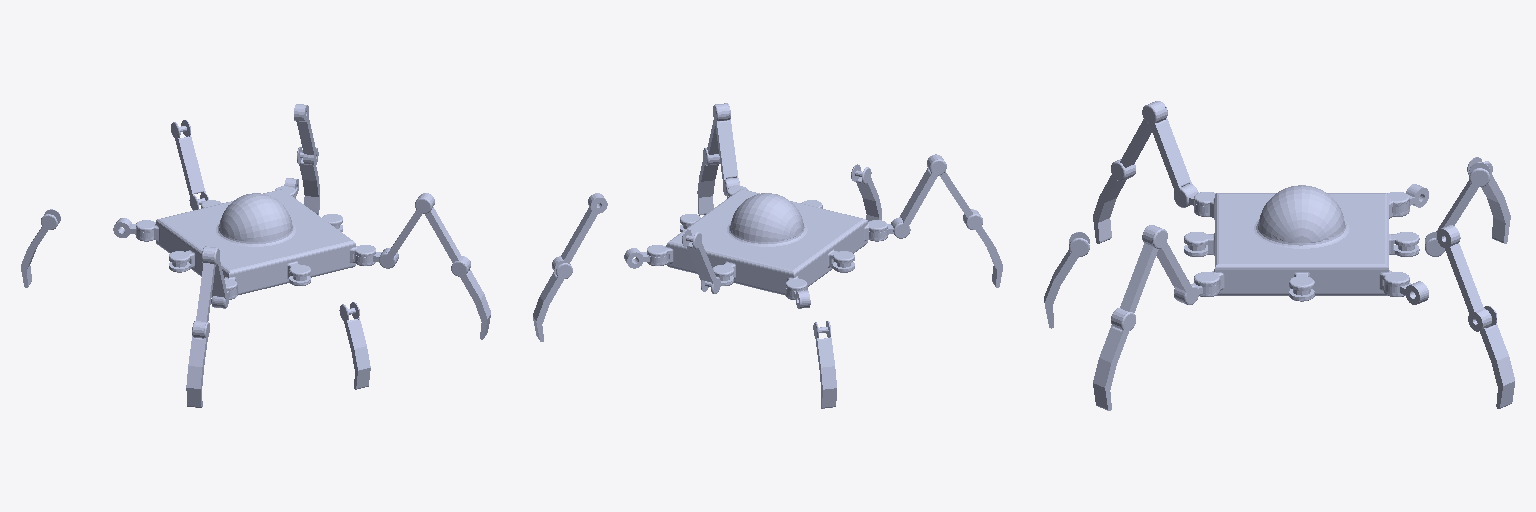
--- Facts derived from the render (not from the file) ---
The picture shows the robot from 3 angles, left to right: view 1: azimuth 30°, elevation 25°; view 2: azimuth 150°, elevation 25°; view 3: azimuth 270°, elevation 25°; orthographic projection.
Model SpiderBot_6Legs with 25 links and 24 joints (24 revolute), rooted at body, posed every joint at zero.
Links seen in each view (by area): view 1: body, link_L5_J2, link_L2_J4, link_L3_J4, link_L3_J3, link_L1_J4, link_L6_J3, link_L6_J4, link_L4_J4, link_L1_J2, link_L1_J3, link_L3_J2; view 2: body, link_L4_J4, link_L3_J2, link_L1_J2, link_L5_J2, link_L6_J3, link_L6_J4, link_L2_J4, link_L1_J4, link_L3_J4, link_L1_J3; view 3: body, link_L6_J3, link_L3_J2, link_L1_J4, link_L6_J4, link_L1_J3, link_L5_J2, link_L3_J4, link_L2_J4, link_L1_J2, link_L4_J4, link_L3_J3 (+1 smaller).
Link boxes in pixels (x1,y1,x2,y2): body: [136, 186, 375, 299]; link_L5_J2: [171, 120, 208, 210]; link_L2_J4: [339, 302, 370, 389]; link_L3_J4: [186, 321, 209, 407]; link_L3_J3: [193, 246, 215, 338]; link_L1_J4: [451, 256, 490, 339]; link_L6_J3: [294, 104, 318, 165]; link_L6_J4: [297, 147, 319, 214]; link_L4_J4: [21, 209, 60, 287]; link_L1_J2: [379, 193, 434, 268]; link_L1_J3: [416, 193, 470, 270]; link_L3_J2: [202, 246, 228, 308]; body: [647, 186, 887, 299]; link_L4_J4: [813, 321, 836, 408]; link_L3_J2: [891, 154, 946, 238]; link_L1_J2: [713, 103, 739, 195]; link_L5_J2: [682, 229, 720, 293]; link_L6_J3: [552, 193, 607, 273]; link_L6_J4: [533, 258, 572, 341]; link_L2_J4: [851, 164, 881, 221]; link_L1_J4: [697, 148, 719, 215]; link_L3_J4: [963, 209, 1002, 287]; link_L1_J3: [707, 103, 728, 164]; body: [1184, 185, 1419, 301]; link_L6_J3: [1437, 225, 1491, 331]; link_L3_J2: [1142, 101, 1198, 207]; link_L1_J4: [1093, 308, 1135, 410]; link_L6_J4: [1476, 306, 1514, 408]; link_L1_J3: [1112, 225, 1161, 329]; link_L5_J2: [1425, 162, 1489, 256]; link_L3_J4: [1093, 161, 1135, 243]; link_L2_J4: [1044, 232, 1089, 328]; link_L1_J2: [1142, 225, 1198, 304]; link_L4_J4: [1467, 157, 1510, 243]; link_L3_J3: [1117, 101, 1166, 179].
Size in the robot's own frame: 0.4791 by 0.5397 by 0.2019 metres.
16 mesh visuals loaded from 25 distinct referenced files (16 binary STL); not drawn: 9 (reference not matched to a file when rendering).

robot.urdf — SpiderBot_6Legs:
<?xml version="1.0" encoding="utf-8"?>

<robot
  name="SpiderBot_6Legs">
  <link
    name="body">
    <inertial>
      <origin
        xyz="-1.6455E-06 -2.7132E-06 0.13522"
        rpy="0 0 0" />
      <mass
        value="1.9509" />
      <inertia
        ixx="0.0068935"
        ixy="-1.5477E-07"
        ixz="-1.6748E-08"
        iyy="0.0068934"
        iyz="-2.768E-08"
        izz="0.012599" />
    </inertial>
    <visual>
      <origin
        xyz="0 0 0"
        rpy="0 0 0" />
      <geometry>
        <mesh
          filename="package://SpiderBot_6Legs/meshes/body.STL" />
      </geometry>
      <material
        name="">
        <color
          rgba="0.79216 0.81961 0.93333 1" />
      </material>
    </visual>
    <collision>
      <origin
        xyz="0 0 0"
        rpy="0 0 0" />
      <geometry>
        <mesh
          filename="package://SpiderBot_6Legs/meshes/body.STL" />
      </geometry>
    </collision>
  </link>
  <link
    name="link_L1_J1">
    <inertial>
      <origin
        xyz="0.0208533170560279 5.55111512312578E-17 -0.0120000000000001"
        rpy="0 0 0" />
      <mass
        value="0.00957341037321664" />
      <inertia
        ixx="6.35237498388445E-07"
        ixy="1.56171699650012E-21"
        ixz="1.62186169348837E-20"
        iyy="2.95388816018321E-06"
        iyz="-8.55851251114884E-22"
        izz="3.07273769122766E-06" />
    </inertial>
    <visual>
      <origin
        xyz="0 0 0"
        rpy="0 0 0" />
      <geometry>
        <mesh
          filename="package://SpiderBot_6Legs/meshes/link_L1_J1.STL" />
      </geometry>
      <material
        name="">
        <color
          rgba="0.792156862745098 0.819607843137255 0.933333333333333 1" />
      </material>
    </visual>
    <collision>
      <origin
        xyz="0 0 0"
        rpy="0 0 0" />
      <geometry>
        <mesh
          filename="package://SpiderBot_6Legs/meshes/link_L1_J1.STL" />
      </geometry>
    </collision>
  </link>
  <joint
    name="L1_J1"
    type="revolute">
    <origin
      xyz="0.108832033144844 -0.108832033144843 0.118000000000001"
      rpy="3.14159265358978 0 -0.785398163397437" />
    <parent
      link="body" />
    <child
      link="link_L1_J1" />
    <axis
      xyz="0 0 1" />
    <limit
      lower="0"
      upper="0"
      effort="0"
      velocity="0" />
  </joint>
  <link
    name="link_L1_J2">
    <inertial>
      <origin
        xyz="1.2490009027033E-16 -9.71445146547012E-17 0.0509087121146357"
        rpy="0 0 0" />
      <mass
        value="0.0214270498659543" />
      <inertia
        ixx="2.34021439622059E-05"
        ixy="1.6940658945086E-21"
        ixz="-6.52215369385811E-20"
        iyy="2.39989247736348E-05"
        iyz="5.44218668610888E-20"
        izz="1.16162974067387E-06" />
    </inertial>
    <visual>
      <origin
        xyz="0 0 0"
        rpy="0 0 0" />
      <geometry>
        <mesh
          filename="package://SpiderBot_6Legs/meshes/link_L1_J2.STL" />
      </geometry>
      <material
        name="">
        <color
          rgba="0.792156862745098 0.819607843137255 0.933333333333333 1" />
      </material>
    </visual>
    <collision>
      <origin
        xyz="0 0 0"
        rpy="0 0 0" />
      <geometry>
        <mesh
          filename="package://SpiderBot_6Legs/meshes/link_L1_J2.STL" />
      </geometry>
    </collision>
  </link>
  <joint
    name="L1_J2"
    type="revolute">
    <origin
      xyz="0.0329903810567685 0 -0.0119999999999972"
      rpy="-2.6179938779915 0 -1.5707963267949" />
    <parent
      link="link_L1_J1" />
    <child
      link="link_L1_J2" />
    <axis
      xyz="1 0 0" />
    <limit
      lower="0"
      upper="0"
      effort="0"
      velocity="0" />
  </joint>
  <link
    name="link_L1_J3">
    <inertial>
      <origin
        xyz="-0.0509087121146357 5.55111512312578E-17 -1.80411241501588E-16"
        rpy="0 0 0" />
      <mass
        value="0.0238433927437446" />
      <inertia
        ixx="1.0284985609508E-06"
        ixy="3.55224442254772E-20"
        ixz="-3.93076227085199E-20"
        iyy="3.82502554199004E-05"
        iyz="0"
        izz="3.83846267529608E-05" />
    </inertial>
    <visual>
      <origin
        xyz="0 0 0"
        rpy="0 0 0" />
      <geometry>
        <mesh
          filename="package://SpiderBot_6Legs/meshes/link_L1_J3.STL" />
      </geometry>
      <material
        name="">
        <color
          rgba="0.792156862745098 0.819607843137255 0.933333333333333 1" />
      </material>
    </visual>
    <collision>
      <origin
        xyz="0 0 0"
        rpy="0 0 0" />
      <geometry>
        <mesh
          filename="package://SpiderBot_6Legs/meshes/link_L1_J3.STL" />
      </geometry>
    </collision>
  </link>
  <joint
    name="L1_J3"
    type="revolute">
    <origin
      xyz="0 0 0.101817424229271"
      rpy="1.5707963267949 -0.523598775598305 1.57079632679489" />
    <parent
      link="link_L1_J2" />
    <child
      link="link_L1_J3" />
    <axis
      xyz="0 0 1" />
    <limit
      lower="0"
      upper="0"
      effort="0"
      velocity="0" />
  </joint>
  <link
    name="link_L1_J4">
    <inertial>
      <origin
        xyz="-2.43606079752823E-10 -0.00336940912784056 -0.0483315670397482"
        rpy="0 0 0" />
      <mass
        value="0.0205677845340441" />
      <inertia
        ixx="2.06704743841636E-05"
        ixy="2.0589781913943E-14"
        ixz="1.55720656723181E-13"
        iyy="2.05646985832854E-05"
        iyz="-2.80021798240062E-06"
        izz="1.64193171564564E-06" />
    </inertial>
    <visual>
      <origin
        xyz="0 0 0"
        rpy="0 0 0" />
      <geometry>
        <mesh
          filename="package://SpiderBot_6Legs/meshes/link_L1_J4.STL" />
      </geometry>
      <material
        name="">
        <color
          rgba="0.792156862745098 0.819607843137255 0.933333333333333 1" />
      </material>
    </visual>
    <collision>
      <origin
        xyz="0 0 0"
        rpy="0 0 0" />
      <geometry>
        <mesh
          filename="package://SpiderBot_6Legs/meshes/link_L1_J4.STL" />
      </geometry>
    </collision>
  </link>
  <joint
    name="L1_J4"
    type="revolute">
    <origin
      xyz="-0.101817424229271 0 0"
      rpy="0 1.57079630572147 0" />
    <parent
      link="link_L1_J3" />
    <child
      link="link_L1_J4" />
    <axis
      xyz="1 0 0" />
    <limit
      lower="0"
      upper="0"
      effort="0"
      velocity="0" />
  </joint>
  <link
    name="link_L2_J1">
    <inertial>
      <origin
        xyz="0.0208533170560278 1.39607056712601E-15 -0.0120000000000003"
        rpy="0 0 0" />
      <mass
        value="0.00957341037321663" />
      <inertia
        ixx="6.35237498388445E-07"
        ixy="8.77009254019188E-20"
        ixz="1.82209679161877E-20"
        iyy="2.95388816018321E-06"
        iyz="8.18836950869645E-22"
        izz="3.07273769122765E-06" />
    </inertial>
    <visual>
      <origin
        xyz="0 0 0"
        rpy="0 0 0" />
      <geometry>
        <mesh
          filename="package://SpiderBot_6Legs/meshes/link_L2_J1.STL" />
      </geometry>
      <material
        name="">
        <color
          rgba="0.792156862745098 0.819607843137255 0.933333333333333 1" />
      </material>
    </visual>
    <collision>
      <origin
        xyz="0 0 0"
        rpy="0 0 0" />
      <geometry>
        <mesh
          filename="package://SpiderBot_6Legs/meshes/link_L2_J1.STL" />
      </geometry>
    </collision>
  </link>
  <joint
    name="L2_J1"
    type="revolute">
    <origin
      xyz="0 -0.119999999999998 0.118000000000001"
      rpy="-3.14159265358979 0 -1.5707963267949" />
    <parent
      link="body" />
    <child
      link="link_L2_J1" />
    <axis
      xyz="0 0 1" />
    <limit
      lower="0"
      upper="0"
      effort="0"
      velocity="0" />
  </joint>
  <link
    name="link_L2_J2">
    <inertial>
      <origin
        xyz="1.85556077463149E-16 1.52655665885959E-16 0.0509087121146356"
        rpy="0 0 0" />
      <mass
        value="0.0214270498659543" />
      <inertia
        ixx="2.34021439622059E-05"
        ixy="-1.90620846702163E-20"
        ixz="-4.90560858710119E-19"
        iyy="2.39989247736348E-05"
        iyz="-3.01226091867311E-20"
        izz="1.16162974067388E-06" />
    </inertial>
    <visual>
      <origin
        xyz="0 0 0"
        rpy="0 0 0" />
      <geometry>
        <mesh
          filename="package://SpiderBot_6Legs/meshes/link_L2_J2.STL" />
      </geometry>
      <material
        name="">
        <color
          rgba="0.792156862745098 0.819607843137255 0.933333333333333 1" />
      </material>
    </visual>
    <collision>
      <origin
        xyz="0 0 0"
        rpy="0 0 0" />
      <geometry>
        <mesh
          filename="package://SpiderBot_6Legs/meshes/link_L2_J2.STL" />
      </geometry>
    </collision>
  </link>
  <joint
    name="L2_J2"
    type="revolute">
    <origin
      xyz="0.0329903810567693 0 -0.0119999999999971"
      rpy="-2.61799387799148 0 -1.5707963267949" />
    <parent
      link="link_L2_J1" />
    <child
      link="link_L2_J2" />
    <axis
      xyz="1 0 0" />
    <limit
      lower="0"
      upper="0"
      effort="0"
      velocity="0" />
  </joint>
  <link
    name="link_L2_J3">
    <inertial>
      <origin
        xyz="-0.0509087121146357 5.55111512312578E-17 1.24722336855482E-15"
        rpy="0 0 0" />
      <mass
        value="0.0238433927437446" />
      <inertia
        ixx="1.0284985609508E-06"
        ixy="3.76664963732147E-20"
        ixz="2.22812698519546E-21"
        iyy="3.82502554199004E-05"
        iyz="-3.52278231475703E-22"
        izz="3.83846267529608E-05" />
    </inertial>
    <visual>
      <origin
        xyz="0 0 0"
        rpy="0 0 0" />
      <geometry>
        <mesh
          filename="package://SpiderBot_6Legs/meshes/link_L2_J3.STL" />
      </geometry>
      <material
        name="">
        <color
          rgba="0.792156862745098 0.819607843137255 0.933333333333333 1" />
      </material>
    </visual>
    <collision>
      <origin
        xyz="0 0 0"
        rpy="0 0 0" />
      <geometry>
        <mesh
          filename="package://SpiderBot_6Legs/meshes/link_L2_J3.STL" />
      </geometry>
    </collision>
  </link>
  <joint
    name="L2_J3"
    type="revolute">
    <origin
      xyz="0 0 0.101817424229271"
      rpy="1.57079632679492 -0.5235987755983 1.57079632679491" />
    <parent
      link="link_L2_J2" />
    <child
      link="link_L2_J3" />
    <axis
      xyz="0 0 1" />
    <limit
      lower="0"
      upper="0"
      effort="0"
      velocity="0" />
  </joint>
  <link
    name="link_L2_J4">
    <inertial>
      <origin
        xyz="-2.56225962359296E-10 -0.00336940912355477 -0.0483315670388598"
        rpy="0 0 0" />
      <mass
        value="0.0205677845321001" />
      <inertia
        ixx="2.06704743858935E-05"
        ixy="2.03948455881812E-14"
        ixz="1.64093794934694E-13"
        iyy="2.05646985850488E-05"
        iyz="-2.80021798643706E-06"
        izz="1.64193171548092E-06" />
    </inertial>
    <visual>
      <origin
        xyz="0 0 0"
        rpy="0 0 0" />
      <geometry>
        <mesh
          filename="package://SpiderBot_6Legs/meshes/link_L2_J4.STL" />
      </geometry>
      <material
        name="">
        <color
          rgba="0.792156862745098 0.819607843137255 0.933333333333333 1" />
      </material>
    </visual>
    <collision>
      <origin
        xyz="0 0 0"
        rpy="0 0 0" />
      <geometry>
        <mesh
          filename="package://SpiderBot_6Legs/meshes/link_L2_J4.STL" />
      </geometry>
    </collision>
  </link>
  <joint
    name="L2_J4"
    type="revolute">
    <origin
      xyz="-0.101817424229271 0 0"
      rpy="0 1.5707963267949 0" />
    <parent
      link="link_L2_J3" />
    <child
      link="link_L2_J4" />
    <axis
      xyz="1 0 0" />
    <limit
      lower="0"
      upper="0"
      effort="0"
      velocity="0" />
  </joint>
  <link
    name="link_L3_J1">
    <inertial>
      <origin
        xyz="0.0208533170560279 -1.38777878078145E-17 -0.0120000000000004"
        rpy="0 0 0" />
      <mass
        value="0.00957341037321663" />
      <inertia
        ixx="6.35237498388445E-07"
        ixy="-1.05879118406788E-22"
        ixz="-6.69667750469578E-22"
        iyy="2.95388816018321E-06"
        iyz="-4.36347195670051E-23"
        izz="3.07273769122765E-06" />
    </inertial>
    <visual>
      <origin
        xyz="0 0 0"
        rpy="0 0 0" />
      <geometry>
        <mesh
          filename="package://SpiderBot_6Legs/meshes/link_L3_J1.STL" />
      </geometry>
      <material
        name="">
        <color
          rgba="0.792156862745098 0.819607843137255 0.933333333333333 1" />
      </material>
    </visual>
    <collision>
      <origin
        xyz="0 0 0"
        rpy="0 0 0" />
      <geometry>
        <mesh
          filename="package://SpiderBot_6Legs/meshes/link_L3_J1.STL" />
      </geometry>
    </collision>
  </link>
  <joint
    name="L3_J1"
    type="revolute">
    <origin
      xyz="-0.108832033144843 -0.108832033144843 0.118000000000001"
      rpy="3.14159265358979 0 -2.35619449019234" />
    <parent
      link="body" />
    <child
      link="link_L3_J1" />
    <axis
      xyz="0 0 1" />
    <limit
      lower="0"
      upper="0"
      effort="0"
      velocity="0" />
  </joint>
  <link
    name="link_L3_J2">
    <inertial>
      <origin
        xyz="1.94289029309402E-16 2.91433543964104E-16 0.0509087121146358"
        rpy="0 0 0" />
      <mass
        value="0.0214270498659543" />
      <inertia
        ixx="2.34021439622059E-05"
        ixy="1.6940658945086E-21"
        ixz="-9.00501902049728E-20"
        iyy="2.39989247736348E-05"
        iyz="-1.1683760716189E-19"
        izz="1.16162974067388E-06" />
    </inertial>
    <visual>
      <origin
        xyz="0 0 0"
        rpy="0 0 0" />
      <geometry>
        <mesh
          filename="package://SpiderBot_6Legs/meshes/link_L3_J2.STL" />
      </geometry>
      <material
        name="">
        <color
          rgba="0.792156862745098 0.819607843137255 0.933333333333333 1" />
      </material>
    </visual>
    <collision>
      <origin
        xyz="0 0 0"
        rpy="0 0 0" />
      <geometry>
        <mesh
          filename="package://SpiderBot_6Legs/meshes/link_L3_J2.STL" />
      </geometry>
    </collision>
  </link>
  <joint
    name="L3_J2"
    type="revolute">
    <origin
      xyz="0.0329903810567658 0 -0.0120000000000016"
      rpy="-2.61799387799149 0 -1.5707963267949" />
    <parent
      link="link_L3_J1" />
    <child
      link="link_L3_J2" />
    <axis
      xyz="1 0 0" />
    <limit
      lower="0"
      upper="0"
      effort="0"
      velocity="0" />
  </joint>
  <link
    name="link_L3_J3">
    <inertial>
      <origin
        xyz="-0.0509087121146357 -5.55111512312578E-17 1.38777878078145E-17"
        rpy="0 0 0" />
      <mass
        value="0.0238433927437446" />
      <inertia
        ixx="1.02849856095081E-06"
        ixy="-2.17052192733914E-21"
        ixz="5.96628832222248E-20"
        iyy="3.82502554199004E-05"
        iyz="-6.7762635780344E-21"
        izz="3.83846267529608E-05" />
    </inertial>
    <visual>
      <origin
        xyz="0 0 0"
        rpy="0 0 0" />
      <geometry>
        <mesh
          filename="package://SpiderBot_6Legs/meshes/link_L3_J3.STL" />
      </geometry>
      <material
        name="">
        <color
          rgba="0.792156862745098 0.819607843137255 0.933333333333333 1" />
      </material>
    </visual>
    <collision>
      <origin
        xyz="0 0 0"
        rpy="0 0 0" />
      <geometry>
        <mesh
          filename="package://SpiderBot_6Legs/meshes/link_L3_J3.STL" />
      </geometry>
    </collision>
  </link>
  <joint
    name="L3_J3"
    type="revolute">
    <origin
      xyz="0 0 0.101817424229271"
      rpy="1.5707963267949 -0.523598775598299 1.57079632679489" />
    <parent
      link="link_L3_J2" />
    <child
      link="link_L3_J3" />
    <axis
      xyz="0 0 1" />
    <limit
      lower="0"
      upper="0"
      effort="0"
      velocity="0" />
  </joint>
  <link
    name="link_L3_J4">
    <inertial>
      <origin
        xyz="-2.4360616301955E-10 -0.00336940912784078 -0.0483315670397482"
        rpy="0 0 0" />
      <mass
        value="0.020567784534044" />
      <inertia
        ixx="2.06704743841635E-05"
        ixy="2.05897802198771E-14"
        ixz="1.55720654711478E-13"
        iyy="2.05646985832853E-05"
        iyz="-2.80021798240069E-06"
        izz="1.64193171564566E-06" />
    </inertial>
    <visual>
      <origin
        xyz="0 0 0"
        rpy="0 0 0" />
      <geometry>
        <mesh
          filename="package://SpiderBot_6Legs/meshes/link_L3_J4.STL" />
      </geometry>
      <material
        name="">
        <color
          rgba="0.792156862745098 0.819607843137255 0.933333333333333 1" />
      </material>
    </visual>
    <collision>
      <origin
        xyz="0 0 0"
        rpy="0 0 0" />
      <geometry>
        <mesh
          filename="package://SpiderBot_6Legs/meshes/link_L3_J4.STL" />
      </geometry>
    </collision>
  </link>
  <joint
    name="L3_J4"
    type="revolute">
    <origin
      xyz="-0.101817424229271 0 0"
      rpy="0 1.5707963267949 0" />
    <parent
      link="link_L3_J3" />
    <child
      link="link_L3_J4" />
    <axis
      xyz="1 0 0" />
    <limit
      lower="0"
      upper="0"
      effort="0"
      velocity="0" />
  </joint>
  <link
    name="link_L4_J1">
    <inertial>
      <origin
        xyz="0.0208533170560279 -2.77555756156289E-17 -0.0120000000000006"
        rpy="0 0 0" />
      <mass
        value="0.00957341037321663" />
      <inertia
        ixx="6.35237498388445E-07"
        ixy="1.03232140446618E-21"
        ixz="-7.47380327368679E-22"
        iyy="2.95388816018321E-06"
        iyz="8.75808333581437E-23"
        izz="3.07273769122766E-06" />
    </inertial>
    <visual>
      <origin
        xyz="0 0 0"
        rpy="0 0 0" />
      <geometry>
        <mesh
          filename="package://SpiderBot_6Legs/meshes/link_L4_J1.STL" />
      </geometry>
      <material
        name="">
        <color
          rgba="0.792156862745098 0.819607843137255 0.933333333333333 1" />
      </material>
    </visual>
    <collision>
      <origin
        xyz="0 0 0"
        rpy="0 0 0" />
      <geometry>
        <mesh
          filename="package://SpiderBot_6Legs/meshes/link_L4_J1.STL" />
      </geometry>
    </collision>
  </link>
  <joint
    name="L4_J1"
    type="revolute">
    <origin
      xyz="-0.108832033144842 0.108832033144844 0.118"
      rpy="3.14159265358979 0 2.35619449019236" />
    <parent
      link="body" />
    <child
      link="link_L4_J1" />
    <axis
      xyz="0 0 1" />
    <limit
      lower="0"
      upper="0"
      effort="0"
      velocity="0" />
  </joint>
  <link
    name="link_L4_J2">
    <inertial>
      <origin
        xyz="4.16333634234434E-17 -4.16333634234434E-17 0.0509087121146357"
        rpy="0 0 0" />
      <mass
        value="0.0214270498659543" />
      <inertia
        ixx="2.34021439622059E-05"
        ixy="8.470329472543E-22"
        ixz="-6.06157952878859E-21"
        iyy="2.39989247736348E-05"
        iyz="2.5675686213646E-21"
        izz="1.16162974067387E-06" />
    </inertial>
    <visual>
      <origin
        xyz="0 0 0"
        rpy="0 0 0" />
      <geometry>
        <mesh
          filename="package://SpiderBot_6Legs/meshes/link_L4_J2.STL" />
      </geometry>
      <material
        name="">
        <color
          rgba="0.792156862745098 0.819607843137255 0.933333333333333 1" />
      </material>
    </visual>
    <collision>
      <origin
        xyz="0 0 0"
        rpy="0 0 0" />
      <geometry>
        <mesh
          filename="package://SpiderBot_6Legs/meshes/link_L4_J2.STL" />
      </geometry>
    </collision>
  </link>
  <joint
    name="L4_J2"
    type="revolute">
    <origin
      xyz="0.0329903810567659 0 -0.0120000000000015"
      rpy="-2.61799387799148 0 -1.5707963267949" />
    <parent
      link="link_L4_J1" />
    <child
      link="link_L4_J2" />
    <axis
      xyz="1 0 0" />
    <limit
      lower="0"
      upper="0"
      effort="0"
      velocity="0" />
  </joint>
  <link
    name="link_L4_J3">
    <inertial>
      <origin
        xyz="-0.0509087121146358 -5.55111512312578E-17 6.93889390390723E-17"
        rpy="0 0 0" />
      <mass
        value="0.0238433927437446" />
      <inertia
        ixx="1.0284985609508E-06"
        ixy="-6.02187485938604E-21"
        ixz="1.69141891654843E-20"
        iyy="3.82502554199004E-05"
        iyz="-6.7762635780344E-21"
        izz="3.83846267529608E-05" />
    </inertial>
    <visual>
      <origin
        xyz="0 0 0"
        rpy="0 0 0" />
      <geometry>
        <mesh
          filename="package://SpiderBot_6Legs/meshes/link_L4_J3.STL" />
      </geometry>
      <material
        name="">
        <color
          rgba="0.792156862745098 0.819607843137255 0.933333333333333 1" />
      </material>
    </visual>
    <collision>
      <origin
        xyz="0 0 0"
        rpy="0 0 0" />
      <geometry>
        <mesh
          filename="package://SpiderBot_6Legs/meshes/link_L4_J3.STL" />
      </geometry>
    </collision>
  </link>
  <joint
    name="L4_J3"
    type="revolute">
    <origin
      xyz="0 0 0.101817424229271"
      rpy="1.5707963267949 -0.523598775598301 1.57079632679489" />
    <parent
      link="link_L4_J2" />
    <child
      link="link_L4_J3" />
    <axis
      xyz="0 0 1" />
    <limit
      lower="0"
      upper="0"
      effort="0"
      velocity="0" />
  </joint>
  <link
    name="link_L4_J4">
    <inertial>
      <origin
        xyz="-2.43605996486096E-10 -0.00336940912784089 -0.0483315670397481"
        rpy="0 0 0" />
      <mass
        value="0.0205677845340441" />
      <inertia
        ixx="2.06704743841636E-05"
        ixy="2.05897903842725E-14"
        ixz="1.55720716756641E-13"
        iyy="2.05646985832853E-05"
        iyz="-2.80021798240075E-06"
        izz="1.64193171564568E-06" />
    </inertial>
    <visual>
      <origin
        xyz="0 0 0"
        rpy="0 0 0" />
      <geometry>
        <mesh
          filename="package://SpiderBot_6Legs/meshes/link_L4_J4.STL" />
      </geometry>
      <material
        name="">
        <color
          rgba="0.792156862745098 0.819607843137255 0.933333333333333 1" />
      </material>
    </visual>
    <collision>
      <origin
        xyz="0 0 0"
        rpy="0 0 0" />
      <geometry>
        <mesh
          filename="package://SpiderBot_6Legs/meshes/link_L4_J4.STL" />
      </geometry>
    </collision>
  </link>
  <joint
    name="L4_J4"
    type="revolute">
    <origin
      xyz="-0.101817424229271 0 0"
      rpy="0 1.5707963267949 0" />
    <parent
      link="link_L4_J3" />
    <child
      link="link_L4_J4" />
    <axis
      xyz="1 0 0" />
    <limit
      lower="0"
      upper="0"
      effort="0"
      velocity="0" />
  </joint>
  <link
    name="link_L5_J1">
    <inertial>
      <origin
        xyz="0.0208533170560278 -1.41575011668319E-15 -0.0120000000000006"
        rpy="0 0 0" />
      <mass
        value="0.00957341037321665" />
      <inertia
        ixx="6.35237498388446E-07"
        ixy="4.05138579231856E-20"
        ixz="1.77093203280465E-20"
        iyy="2.95388816018322E-06"
        iyz="1.22391639046936E-22"
        izz="3.07273769122766E-06" />
    </inertial>
    <visual>
      <origin
        xyz="0 0 0"
        rpy="0 0 0" />
      <geometry>
        <mesh
          filename="package://SpiderBot_6Legs/meshes/link_L5_J1.STL" />
      </geometry>
      <material
        name="">
        <color
          rgba="0.792156862745098 0.819607843137255 0.933333333333333 1" />
      </material>
    </visual>
    <collision>
      <origin
        xyz="0 0 0"
        rpy="0 0 0" />
      <geometry>
        <mesh
          filename="package://SpiderBot_6Legs/meshes/link_L5_J1.STL" />
      </geometry>
    </collision>
  </link>
  <joint
    name="L5_J1"
    type="revolute">
    <origin
      xyz="0 0.120000000000001 0.118"
      rpy="3.14159265358979 0 1.5707963267949" />
    <parent
      link="body" />
    <child
      link="link_L5_J1" />
    <axis
      xyz="0 0 1" />
    <limit
      lower="0"
      upper="0"
      effort="0"
      velocity="0" />
  </joint>
  <link
    name="link_L5_J2">
    <inertial>
      <origin
        xyz="0.0100000000000021 -0.0225705080756829 0.0777962074884351"
        rpy="0 0 0" />
      <mass
        value="0.0214270498659543" />
      <inertia
        ixx="2.34021439622059E-05"
        ixy="-9.40119986034315E-21"
        ixz="-2.10493938222404E-19"
        iyy="2.39989247736348E-05"
        iyz="1.74700545371199E-21"
        izz="1.16162974067387E-06" />
    </inertial>
    <visual>
      <origin
        xyz="0 0 0"
        rpy="0 0 0" />
      <geometry>
        <mesh
          filename="package://SpiderBot_6Legs/meshes/link_L5_J2.STL" />
      </geometry>
      <material
        name="">
        <color
          rgba="0.792156862745098 0.819607843137255 0.933333333333333 1" />
      </material>
    </visual>
    <collision>
      <origin
        xyz="0 0 0"
        rpy="0 0 0" />
      <geometry>
        <mesh
          filename="package://SpiderBot_6Legs/meshes/link_L5_J2.STL" />
      </geometry>
    </collision>
  </link>
  <joint
    name="L5_J2"
    type="revolute">
    <origin
      xyz="0 0.01 0"
      rpy="-2.61799387799148 0 -1.5707963267949" />
    <parent
      link="link_L5_J1" />
    <child
      link="link_L5_J2" />
    <axis
      xyz="1 0 0" />
    <limit
      lower="0"
      upper="0"
      effort="0"
      velocity="0" />
  </joint>
  <link
    name="link_L5_J3">
    <inertial>
      <origin
        xyz="-0.0509087121146357 0 0.00750000000000004"
        rpy="0 0 0" />
      <mass
        value="0.0238433927437446" />
      <inertia
        ixx="1.02849856095081E-06"
        ixy="-2.62050818056799E-21"
        ixz="-9.73845013888036E-22"
        iyy="3.82502554199004E-05"
        iyz="-1.45519749587991E-22"
        izz="3.83846267529608E-05" />
    </inertial>
    <visual>
      <origin
        xyz="0 0 0"
        rpy="0 0 0" />
      <geometry>
        <mesh
          filename="package://SpiderBot_6Legs/meshes/link_L5_J3.STL" />
      </geometry>
      <material
        name="">
        <color
          rgba="0.792156862745098 0.819607843137255 0.933333333333333 1" />
      </material>
    </visual>
    <collision>
      <origin
        xyz="0 0 0"
        rpy="0 0 0" />
      <geometry>
        <mesh
          filename="package://SpiderBot_6Legs/meshes/link_L5_J3.STL" />
      </geometry>
    </collision>
  </link>
  <joint
    name="L5_J3"
    type="revolute">
    <origin
      xyz="0.00250000000000243 -0.0225705080756833 0.128704919603071"
      rpy="1.57079632679491 -0.523598775598298 1.57079632679491" />
    <parent
      link="link_L5_J2" />
    <child
      link="link_L5_J3" />
    <axis
      xyz="0 0 1" />
    <limit
      lower="0"
      upper="0"
      effort="0"
      velocity="0" />
  </joint>
  <link
    name="link_L5_J4">
    <inertial>
      <origin
        xyz="-0.00750000025622259 -0.00336940912355493 -0.0483315670388597"
        rpy="0 0 0" />
      <mass
        value="0.0205677845321" />
      <inertia
        ixx="2.06704743858935E-05"
        ixy="2.03948818630576E-14"
        ixz="1.64093990166694E-13"
        iyy="2.05646985850489E-05"
        iyz="-2.80021798643706E-06"
        izz="1.64193171548093E-06" />
    </inertial>
    <visual>
      <origin
        xyz="0 0 0"
        rpy="0 0 0" />
      <geometry>
        <mesh
          filename="package://SpiderBot_6Legs/meshes/link_L5_J4.STL" />
      </geometry>
      <material
        name="">
        <color
          rgba="0.792156862745098 0.819607843137255 0.933333333333333 1" />
      </material>
    </visual>
    <collision>
      <origin
        xyz="0 0 0"
        rpy="0 0 0" />
      <geometry>
        <mesh
          filename="package://SpiderBot_6Legs/meshes/link_L5_J4.STL" />
      </geometry>
    </collision>
  </link>
  <joint
    name="L5_J4"
    type="revolute">
    <origin
      xyz="-0.101817424229272 0 0"
      rpy="0 1.5707963267949 0" />
    <parent
      link="link_L5_J3" />
    <child
      link="link_L5_J4" />
    <axis
      xyz="1 0 0" />
    <limit
      lower="0"
      upper="0"
      effort="0"
      velocity="0" />
  </joint>
  <link
    name="link_L6_J1">
    <inertial>
      <origin
        xyz="0.0208533170560278 -9.71445146547012E-17 -0.0120000000000002"
        rpy="0 0 0" />
      <mass
        value="0.00957341037321664" />
      <inertia
        ixx="6.35237498388445E-07"
        ixy="-1.58818677610181E-22"
        ixz="1.61571029135456E-20"
        iyy="2.95388816018321E-06"
        iyz="9.35076574667278E-22"
        izz="3.07273769122766E-06" />
    </inertial>
    <visual>
      <origin
        xyz="0 0 0"
        rpy="0 0 0" />
      <geometry>
        <mesh
          filename="package://SpiderBot_6Legs/meshes/link_L6_J1.STL" />
      </geometry>
      <material
        name="">
        <color
          rgba="0.792156862745098 0.819607843137255 0.933333333333333 1" />
      </material>
    </visual>
    <collision>
      <origin
        xyz="0 0 0"
        rpy="0 0 0" />
      <geometry>
        <mesh
          filename="package://SpiderBot_6Legs/meshes/link_L6_J1.STL" />
      </geometry>
    </collision>
  </link>
  <joint
    name="L6_J1"
    type="revolute">
    <origin
      xyz="0.108832033144843 0.108832033144844 0.118000000000001"
      rpy="-3.14159265358979 0 0.785398163397464" />
    <parent
      link="body" />
    <child
      link="link_L6_J1" />
    <axis
      xyz="0 0 1" />
    <limit
      lower="0"
      upper="0"
      effort="0"
      velocity="0" />
  </joint>
  <link
    name="link_L6_J2">
    <inertial>
      <origin
        xyz="1.38777878078145E-17 -6.28663787693995E-15 0.0509087121146328"
        rpy="0 0 0" />
      <mass
        value="0.0214270498659542" />
      <inertia
        ixx="2.34021439622059E-05"
        ixy="0"
        ixz="-1.94288182276455E-20"
        iyy="2.39989247736348E-05"
        iyz="3.4146015686189E-20"
        izz="1.16162974067387E-06" />
    </inertial>
    <visual>
      <origin
        xyz="0 0 0"
        rpy="0 0 0" />
      <geometry>
        <mesh
          filename="package://SpiderBot_6Legs/meshes/link_L6_J2.STL" />
      </geometry>
      <material
        name="">
        <color
          rgba="0.792156862745098 0.819607843137255 0.933333333333333 1" />
      </material>
    </visual>
    <collision>
      <origin
        xyz="0 0 0"
        rpy="0 0 0" />
      <geometry>
        <mesh
          filename="package://SpiderBot_6Legs/meshes/link_L6_J2.STL" />
      </geometry>
    </collision>
  </link>
  <joint
    name="L6_J2"
    type="revolute">
    <origin
      xyz="0.0329903810567665 0 -0.0120000000000004"
      rpy="-2.61799387799149 0 -1.5707963267949" />
    <parent
      link="link_L6_J1" />
    <child
      link="link_L6_J2" />
    <axis
      xyz="1 0 0" />
    <limit
      lower="0"
      upper="0"
      effort="0"
      velocity="0" />
  </joint>
  <link
    name="link_L6_J3">
    <inertial>
      <origin
        xyz="-0.0509087121146358 0 1.66533453693773E-16"
        rpy="0 0 0" />
      <mass
        value="0.0238433927437446" />
      <inertia
        ixx="1.0284985609508E-06"
        ixy="-4.56603698129271E-20"
        ixz="4.22987078035116E-20"
        iyy="3.82502554199004E-05"
        iyz="-5.0821976835258E-21"
        izz="3.83846267529607E-05" />
    </inertial>
    <visual>
      <origin
        xyz="0 0 0"
        rpy="0 0 0" />
      <geometry>
        <mesh
          filename="package://SpiderBot_6Legs/meshes/link_L6_J3.STL" />
      </geometry>
      <material
        name="">
        <color
          rgba="0.792156862745098 0.819607843137255 0.933333333333333 1" />
      </material>
    </visual>
    <collision>
      <origin
        xyz="0 0 0"
        rpy="0 0 0" />
      <geometry>
        <mesh
          filename="package://SpiderBot_6Legs/meshes/link_L6_J3.STL" />
      </geometry>
    </collision>
  </link>
  <joint
    name="L6_J3"
    type="revolute">
    <origin
      xyz="0 0 0.101817424229268"
      rpy="1.5707963267949 -0.523598775598301 1.5707963267949" />
    <parent
      link="link_L6_J2" />
    <child
      link="link_L6_J3" />
    <axis
      xyz="0 0 1" />
    <limit
      lower="0"
      upper="0"
      effort="0"
      velocity="0" />
  </joint>
  <link
    name="link_L6_J4">
    <inertial>
      <origin
        xyz="-2.4360616301955E-10 -0.00336940912784056 -0.0483315670397482"
        rpy="0 0 0" />
      <mass
        value="0.020567784534044" />
      <inertia
        ixx="2.06704743841635E-05"
        ixy="2.05897861491077E-14"
        ixz="1.55720700557136E-13"
        iyy="2.05646985832853E-05"
        iyz="-2.80021798240061E-06"
        izz="1.64193171564563E-06" />
    </inertial>
    <visual>
      <origin
        xyz="0 0 0"
        rpy="0 0 0" />
      <geometry>
        <mesh
          filename="package://SpiderBot_6Legs/meshes/link_L6_J4.STL" />
      </geometry>
      <material
        name="">
        <color
          rgba="0.792156862745098 0.819607843137255 0.933333333333333 1" />
      </material>
    </visual>
    <collision>
      <origin
        xyz="0 0 0"
        rpy="0 0 0" />
      <geometry>
        <mesh
          filename="package://SpiderBot_6Legs/meshes/link_L6_J4.STL" />
      </geometry>
    </collision>
  </link>
  <joint
    name="L6_J4"
    type="revolute">
    <origin
      xyz="-0.101817424229271 0 0"
      rpy="0 1.5707963267949 0" />
    <parent
      link="link_L6_J3" />
    <child
      link="link_L6_J4" />
    <axis
      xyz="1 0 0" />
    <limit
      lower="0"
      upper="0"
      effort="0"
      velocity="0" />
  </joint>
</robot>
